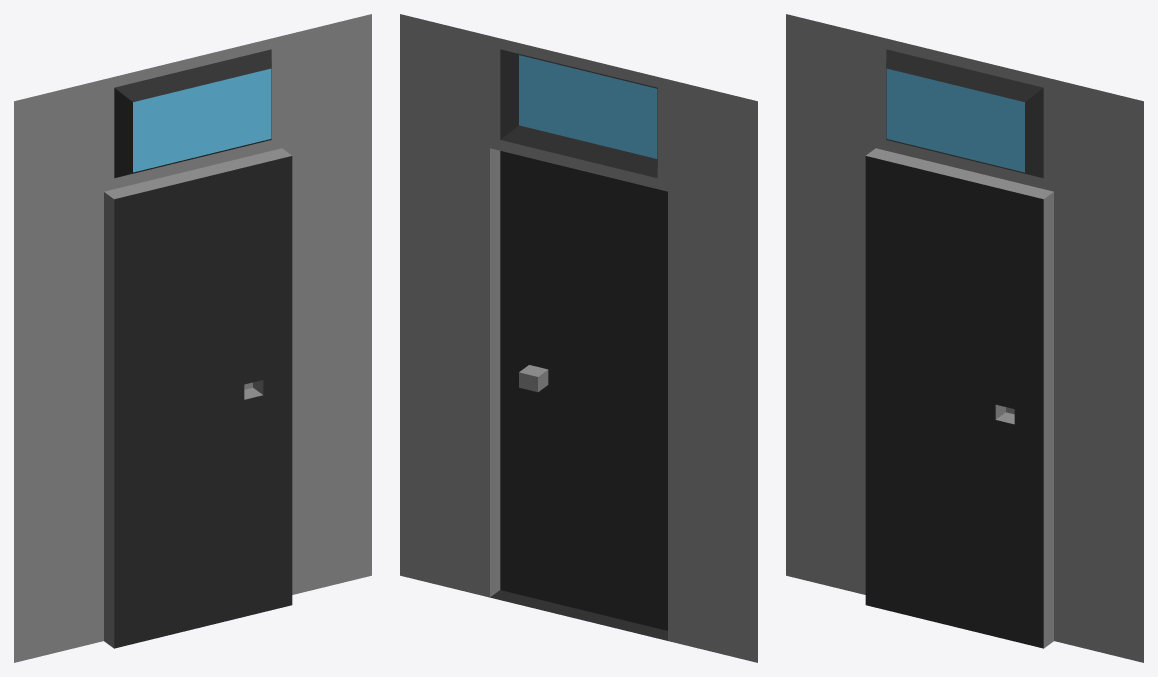
The model's file is FlatWallDoor.FBX.
3 renders of one model, left to right at view 1: azimuth 30°, elevation 25°; view 2: azimuth 150°, elevation 25°; view 3: azimuth 330°, elevation 25°, orthographic.
Visible parts, largest first — view 1: FlatWallDoor; view 2: FlatWallDoor; view 3: FlatWallDoor.
Part boxes in pixels (<box>): FlatWallDoor: <box>14,14,371,662</box>; FlatWallDoor: <box>400,14,757,662</box>; FlatWallDoor: <box>786,14,1143,662</box>.
Bounding box in the file's own units: 78.74 × 118 × 3.94.
